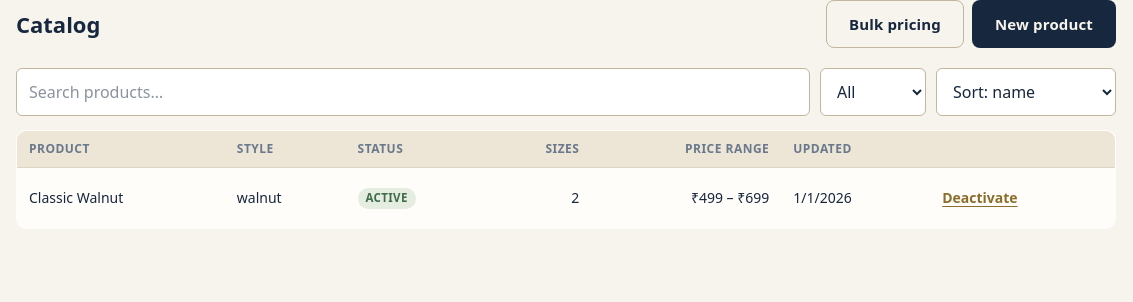
Scenario: CatalogPage › explains a stale-version conflict instead of pretending it worked
Expected: the link "Classic Walnut" is shown, [29,188,123,207]
Click the button with test id "toggle-walnut": click(980, 198) [938,178,1022,218]
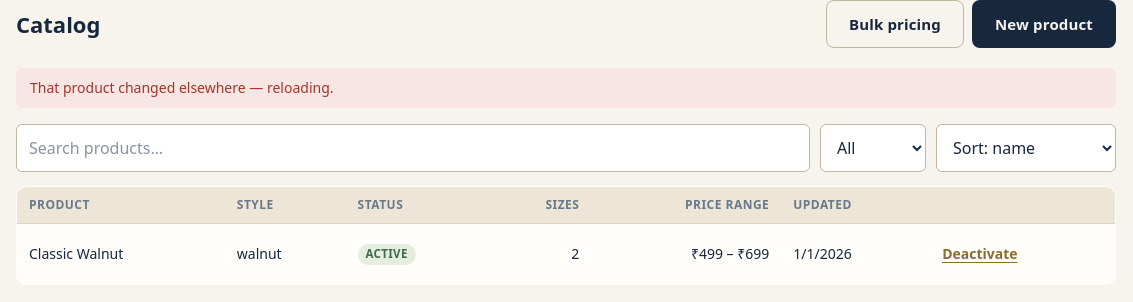
Expected: the text "That product changed elsewhere — reloading." is shown, [16,68,1116,108]
